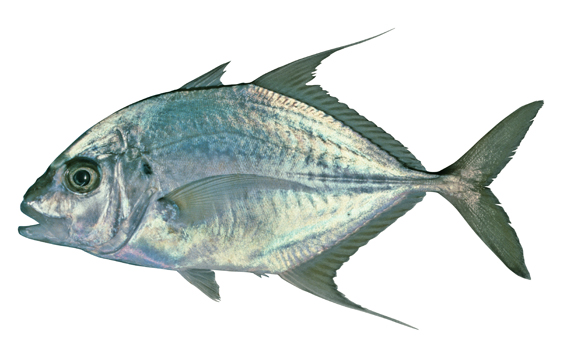fish: (17, 27, 544, 332)
